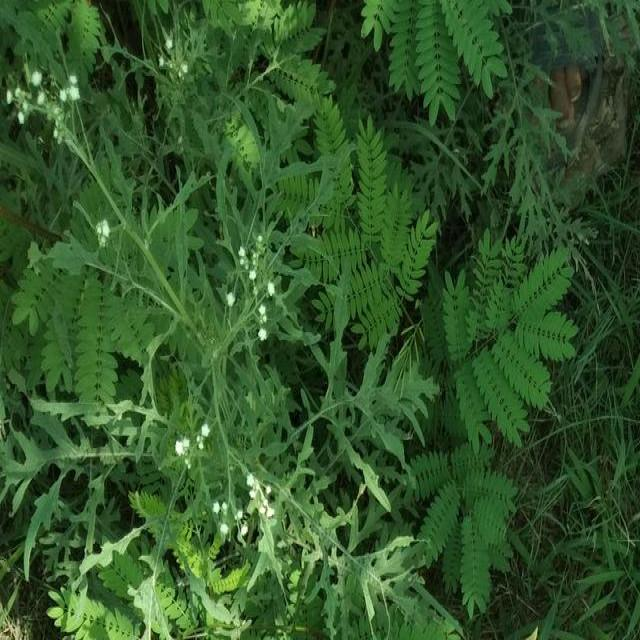weed: (4, 66, 422, 612)
